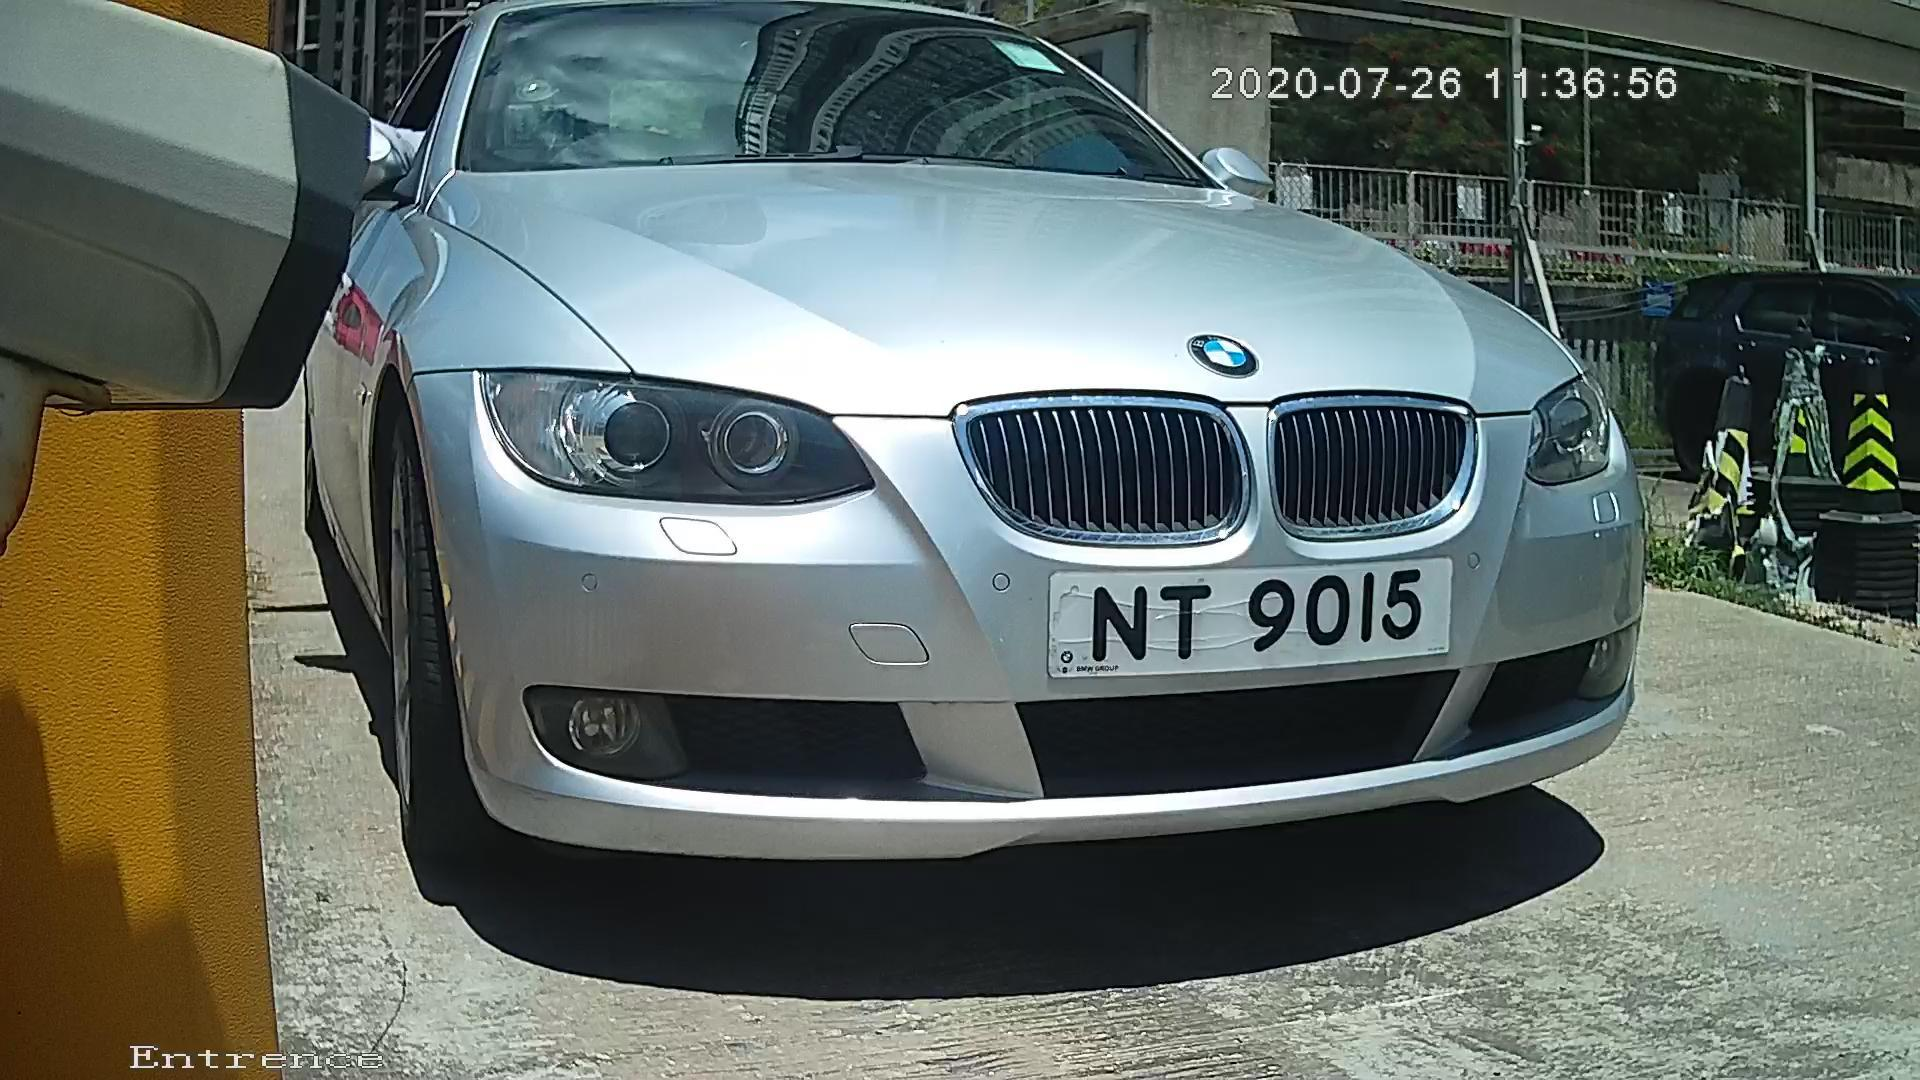privatecar: (189, 49, 1801, 926)
